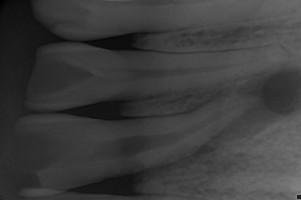Furcation Involvement: (211, 68, 301, 142)
